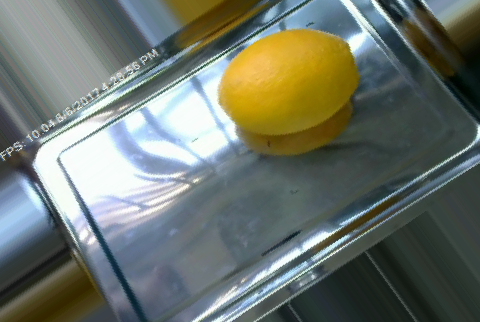Orange: (217, 27, 359, 135)
